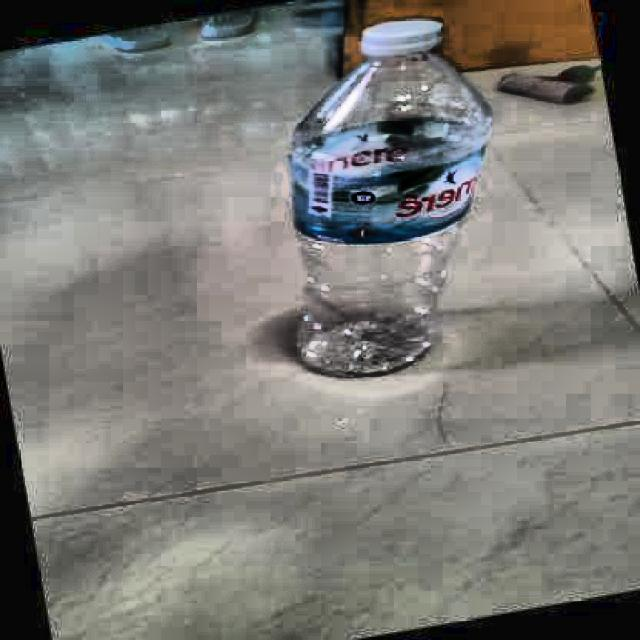Bottles: (274, 9, 502, 379)
